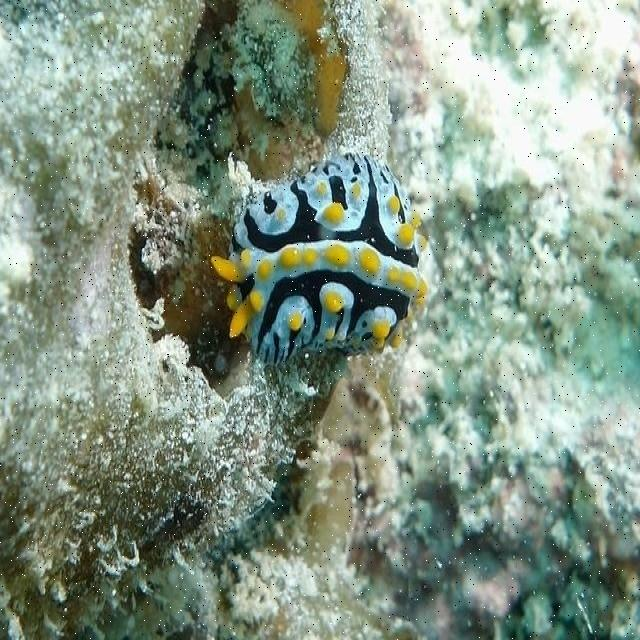reefs: (211, 155, 429, 366)
